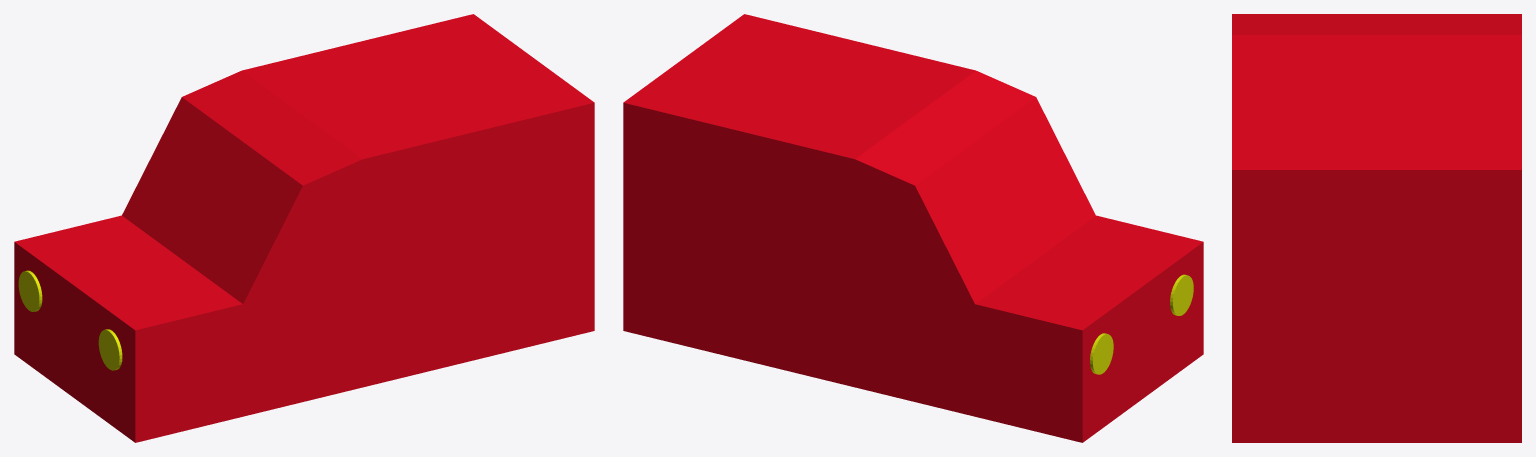
The model's file is Chasis.glb.
3 views of the same model, side by side, from view 1: azimuth 30°, elevation 25°; view 2: azimuth 150°, elevation 25°; view 3: azimuth 270°, elevation 25° (orthographic). The views are drawn at different scales.
Parts seen in each view (by area): view 1: Cube.001, Cylinder.005, Cylinder.004; view 2: Cube.001, Cylinder.005, Cylinder.004; view 3: Cube.001.
Boxes of the visible parts, bbox=[...] form: Cube.001: bbox=[14, 14, 594, 442]; Cylinder.005: bbox=[18, 270, 42, 311]; Cylinder.004: bbox=[98, 329, 122, 370]; Cube.001: bbox=[623, 14, 1203, 442]; Cylinder.005: bbox=[1090, 333, 1113, 374]; Cylinder.004: bbox=[1170, 274, 1193, 315]; Cube.001: bbox=[1232, 14, 1521, 442].
Size of the model in its own units: 4.85 by 2.29 by 2.2.
